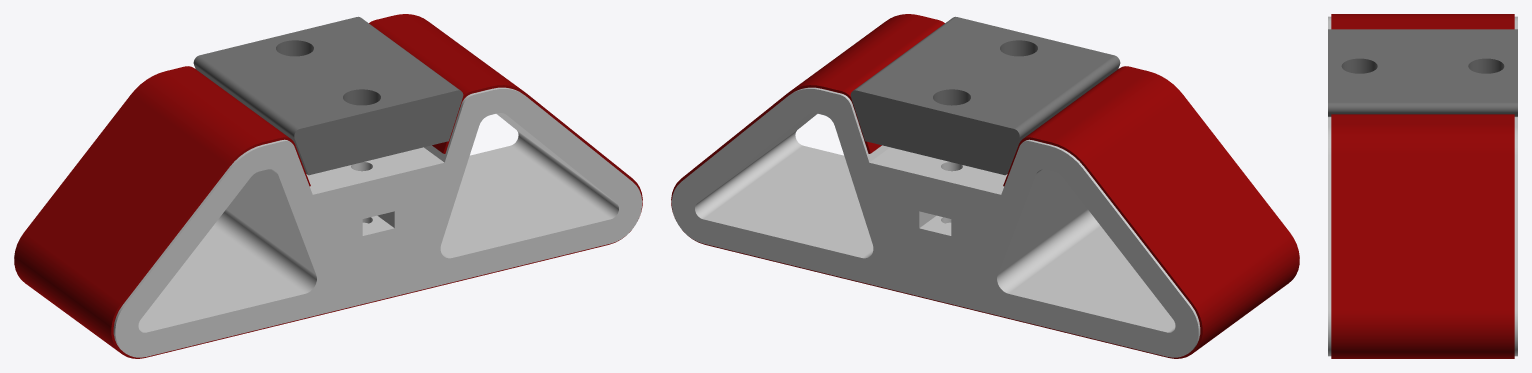
Rendered from lima.gltf.
3 renders of one model, left to right at view 1: azimuth 30°, elevation 25°; view 2: azimuth 150°, elevation 25°; view 3: azimuth 270°, elevation 25°, orthographic. The views are drawn at different scales.
Visible parts, largest first — view 1: Lima-1, Lima_top-1; view 2: Lima-1, Lima_top-1; view 3: Lima-1, Lima_top-1.
Part boxes in pixels (bbox=[...]): Lima-1: bbox=[14, 14, 642, 358]; Lima_top-1: bbox=[193, 16, 463, 175]; Lima-1: bbox=[671, 14, 1299, 358]; Lima_top-1: bbox=[850, 16, 1120, 175]; Lima-1: bbox=[1328, 14, 1517, 358]; Lima_top-1: bbox=[1328, 29, 1517, 116].
Bounding box in the file's own units: 0.0916 × 0.0318 × 0.03.
